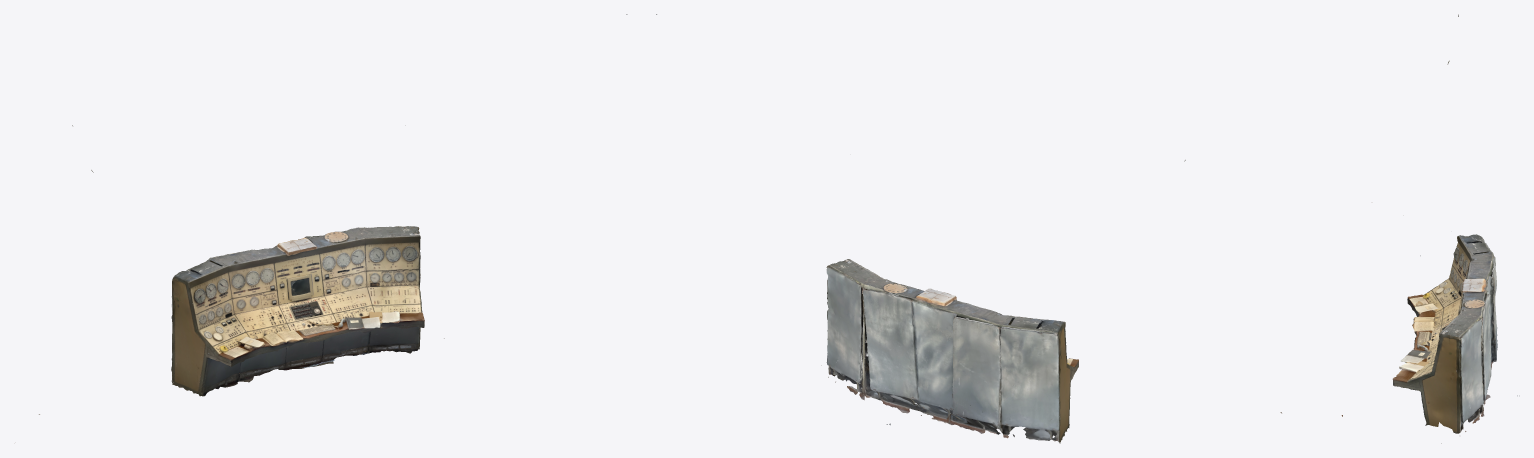
File: reactor-control.glb
3 renders of one model, left to right at view 1: azimuth 30°, elevation 25°; view 2: azimuth 150°, elevation 25°; view 3: azimuth 270°, elevation 25°, orthographic. The views are drawn at different scales.
Visible parts, largest first — view 1: ROT-54 Control panel - Armenia.079; view 2: ROT-54 Control panel - Armenia.079; view 3: ROT-54 Control panel - Armenia.079.
Boxes of the visible parts, bbox=[...] form: ROT-54 Control panel - Armenia.079: bbox=[171, 226, 444, 396]; ROT-54 Control panel - Armenia.079: bbox=[821, 259, 1078, 443]; ROT-54 Control panel - Armenia.079: bbox=[1392, 234, 1519, 443].
Bounding box in the file's own units: 3.95 × 1.75 × 0.8709.
Materials: 1 (1 with a texture image).
